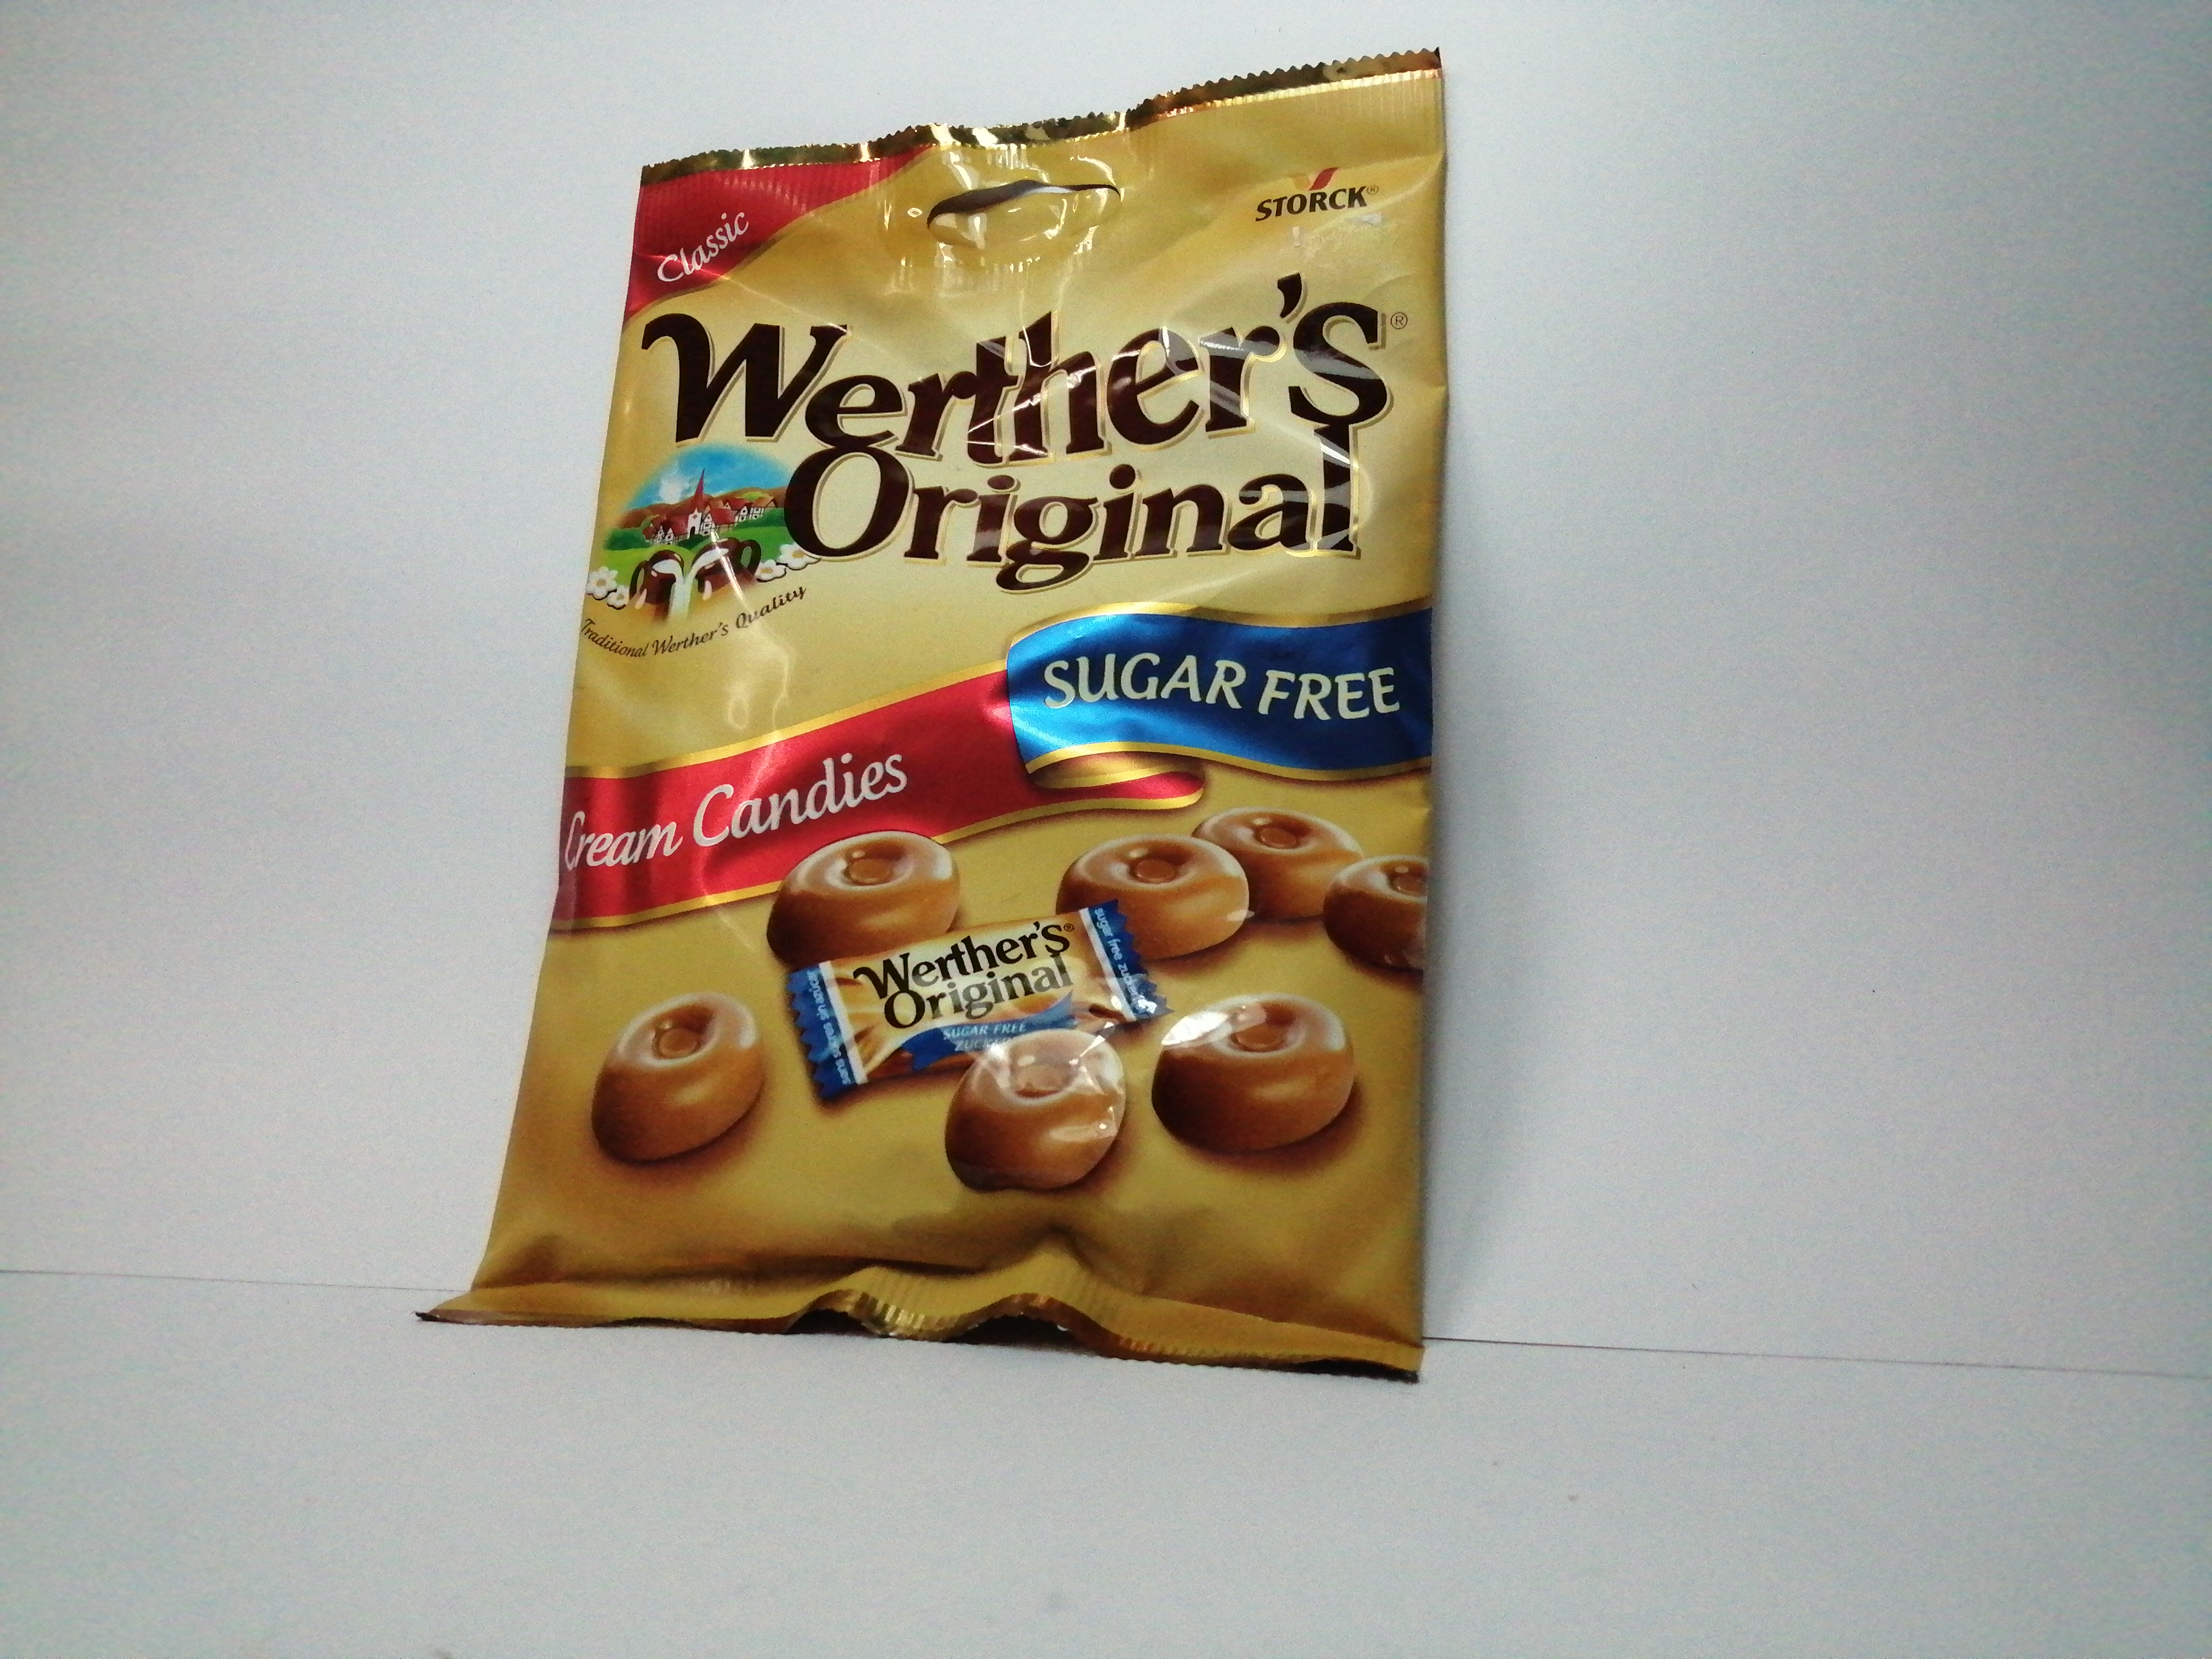dulces: (423, 49, 1453, 1389)
